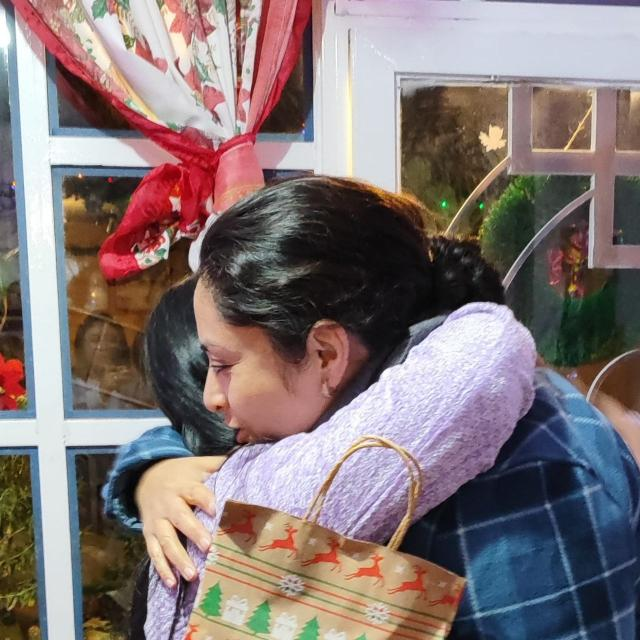ear: (311, 320, 350, 398)
